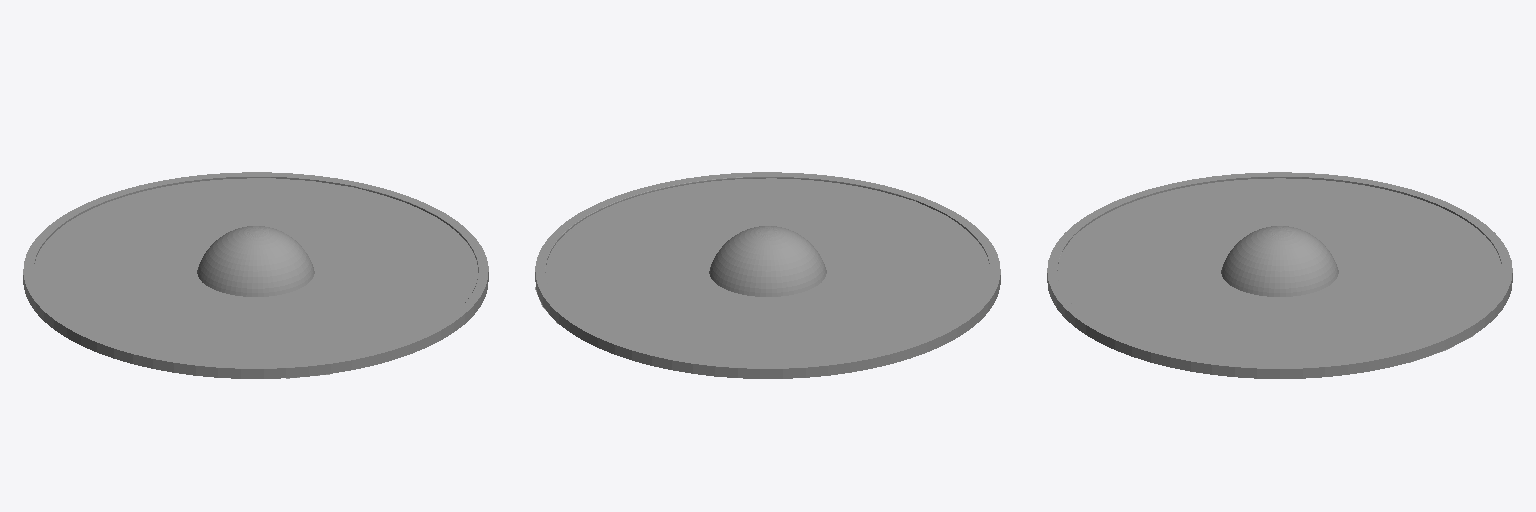
Rendered from Buckler.obj.
3 views of the same model, side by side, from view 1: azimuth 30°, elevation 25°; view 2: azimuth 150°, elevation 25°; view 3: azimuth 270°, elevation 25° (orthographic).
Visible parts, largest first — view 1: Shield_Circle.001; view 2: Shield_Circle.001; view 3: Shield_Circle.001.
Boxes of the visible parts, x1=… form: Shield_Circle.001: x1=23, y1=172, x2=488, y2=378; Shield_Circle.001: x1=535, y1=172, x2=1000, y2=378; Shield_Circle.001: x1=1047, y1=172, x2=1512, y2=378.
Bounding box in the file's own units: 7.58 × 0.8905 × 7.58.